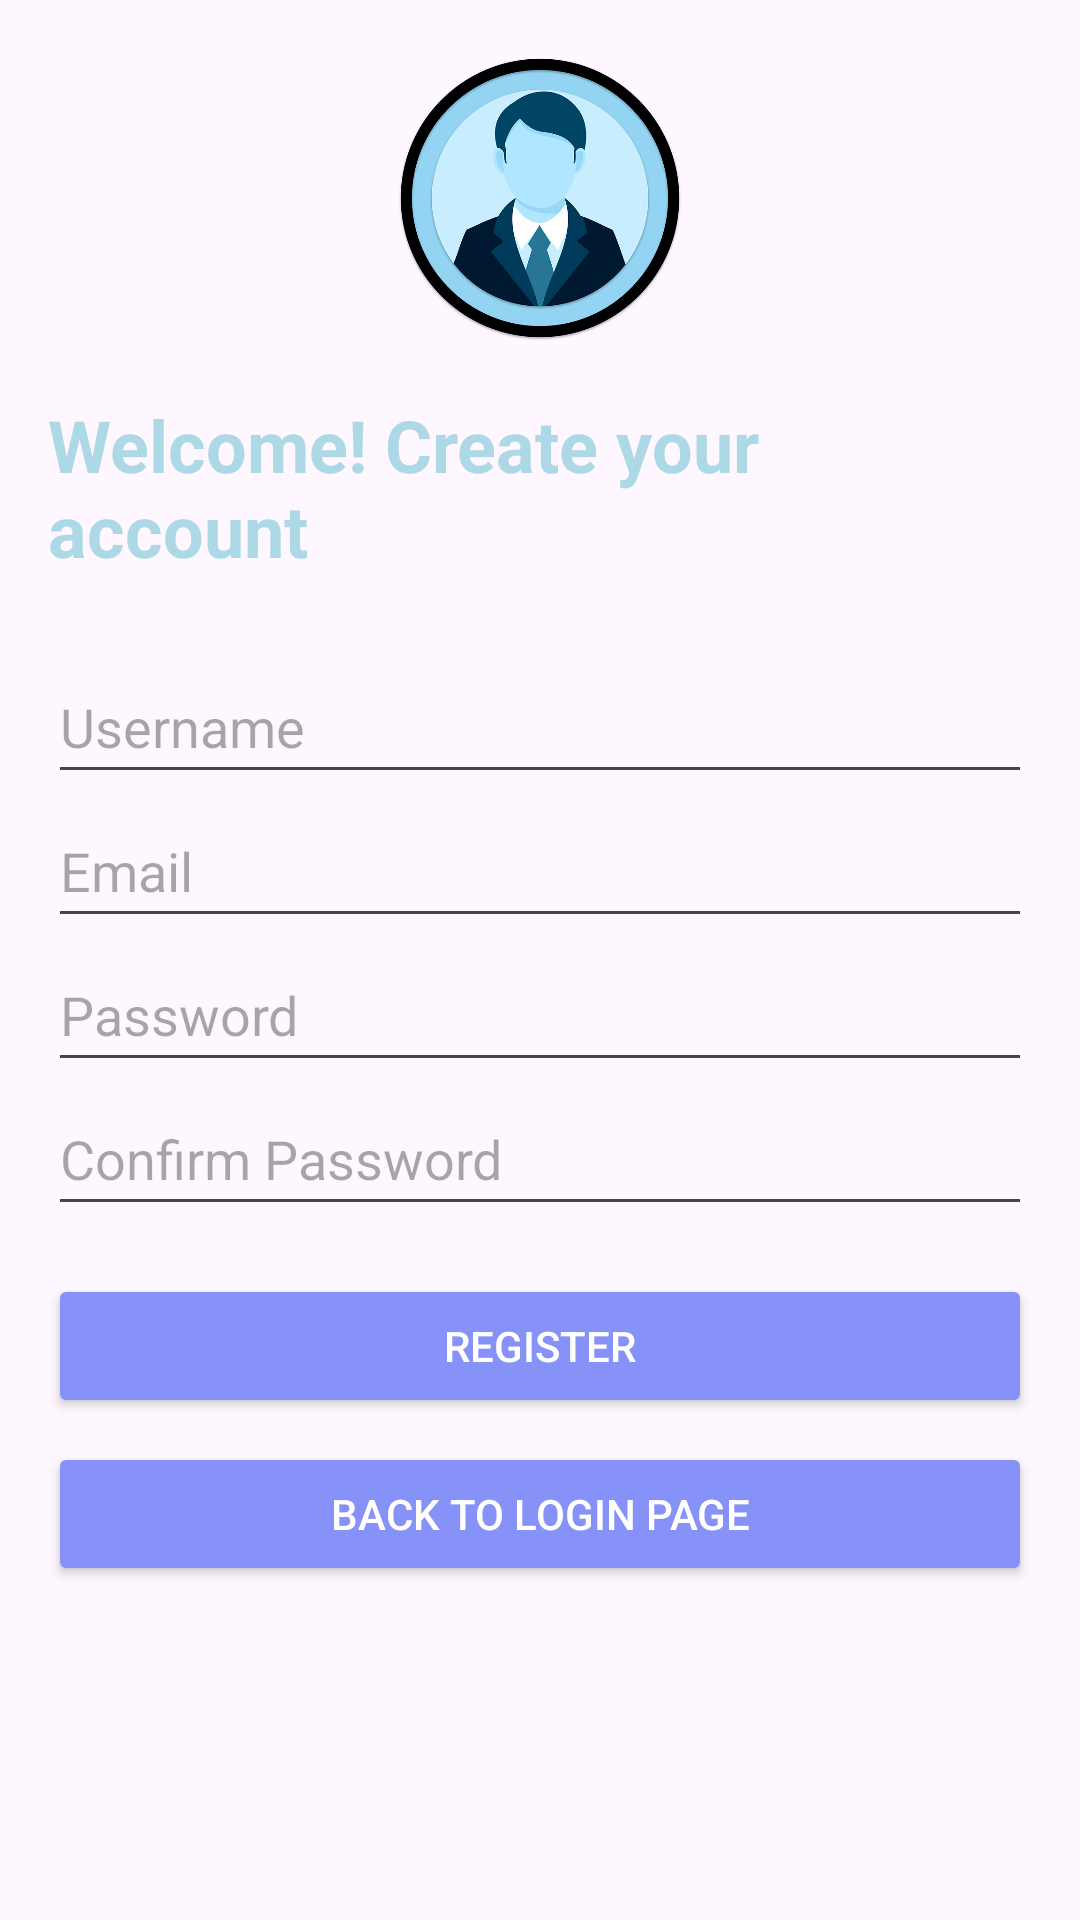

Where icons sit on this 1080px x 1920px app screen, as (x1, y1, x2, y2):
Profile Image: (400, 59, 680, 339)
